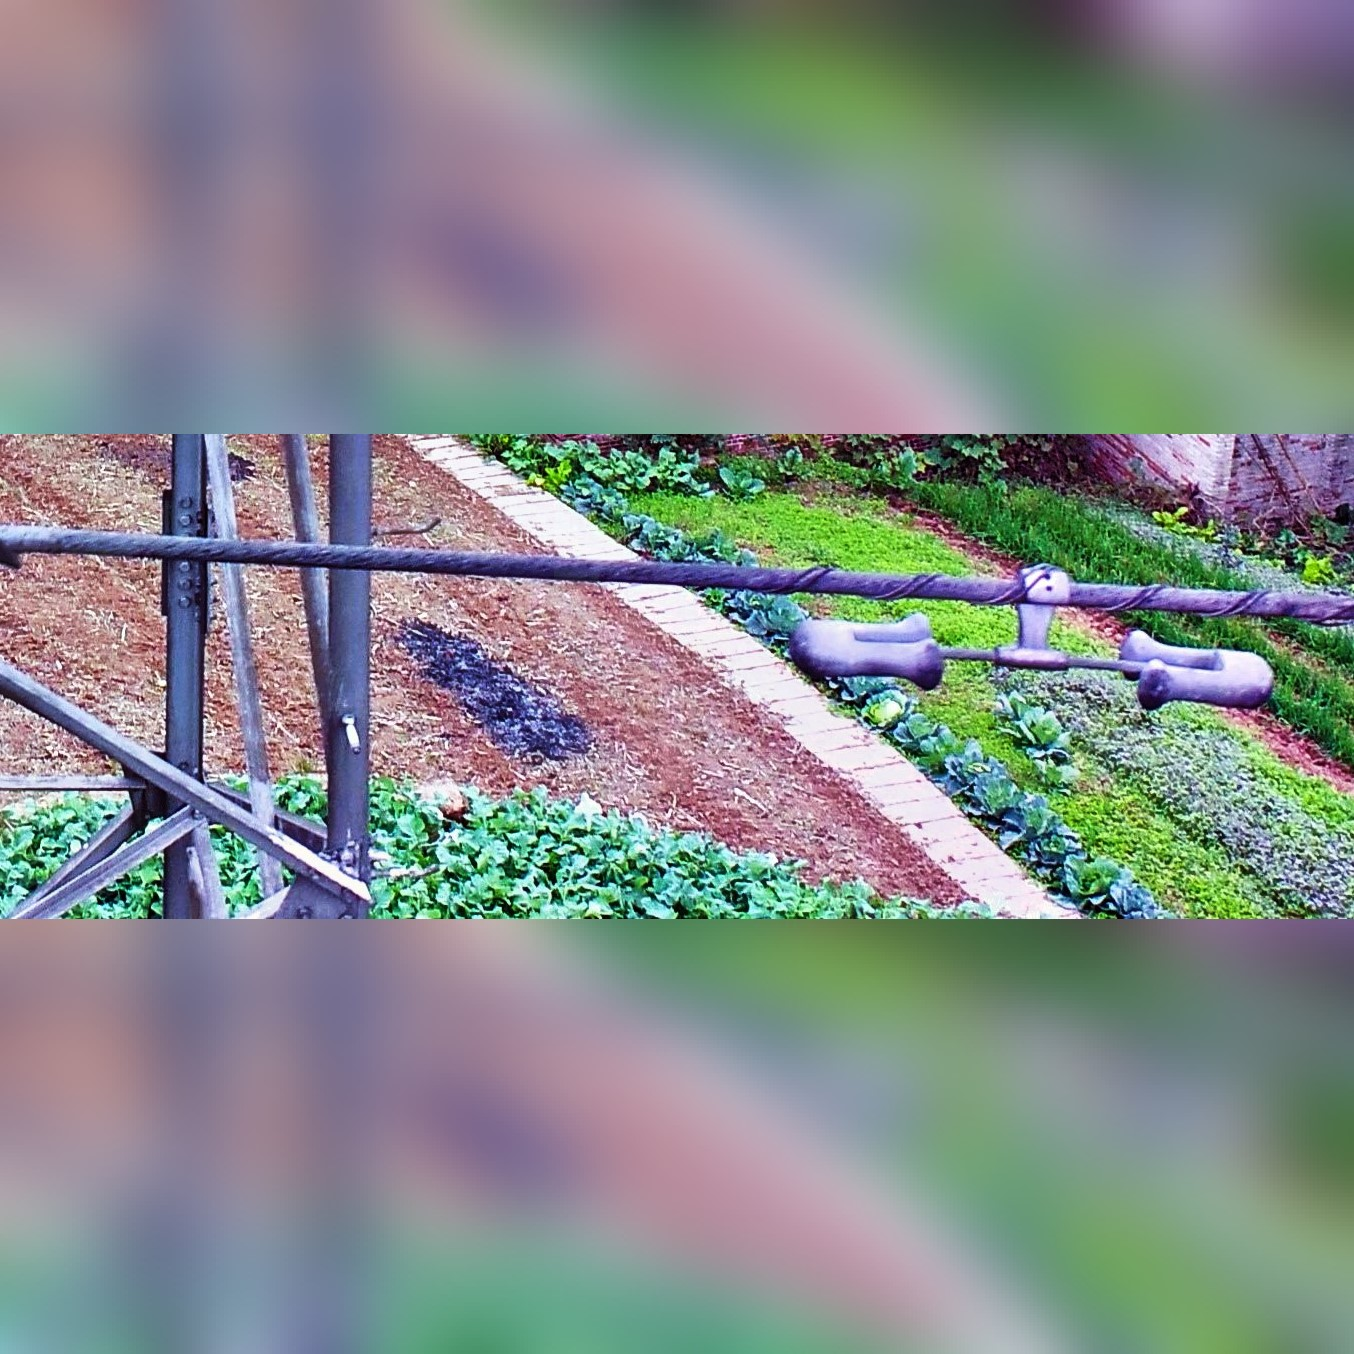Shockproof hammer: (776, 548, 1285, 722)
